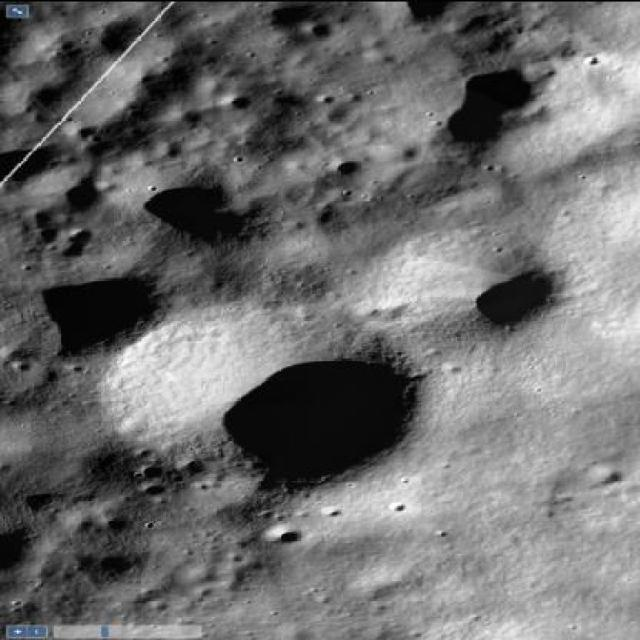crater: (102, 301, 424, 494), (428, 247, 560, 336), (268, 523, 302, 545), (332, 155, 360, 174)
